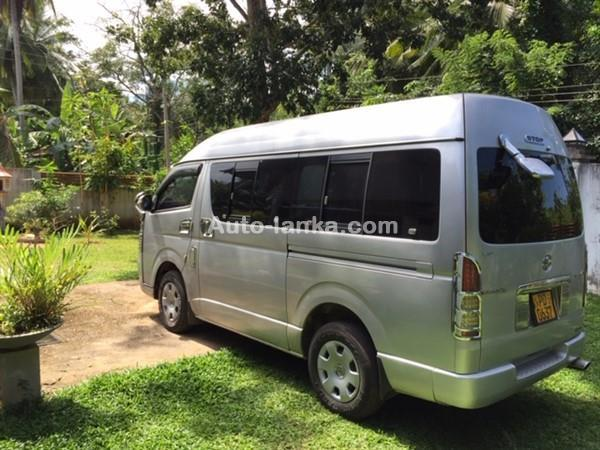van: (133, 92, 590, 421)
